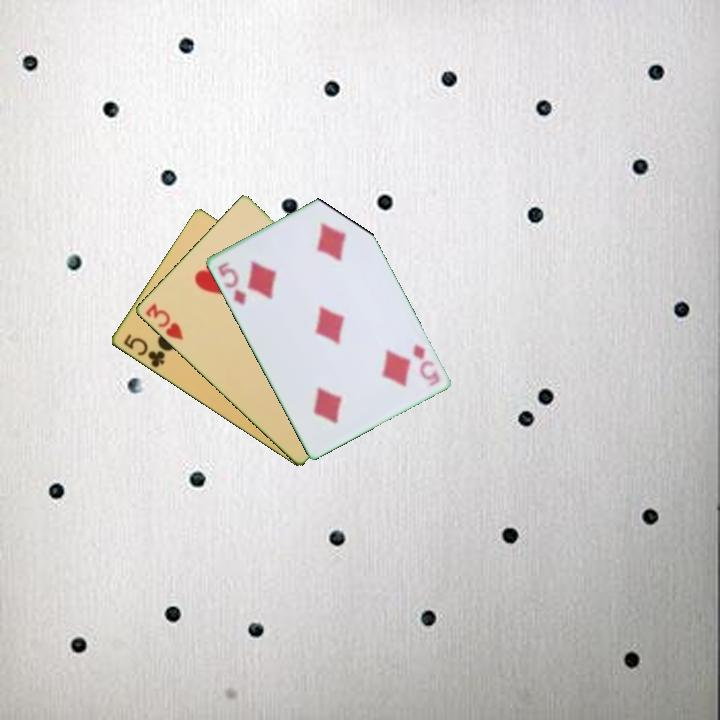3h: (141, 300, 186, 343)
5c: (119, 330, 168, 370)
5d: (214, 258, 249, 308), (409, 340, 442, 389)
